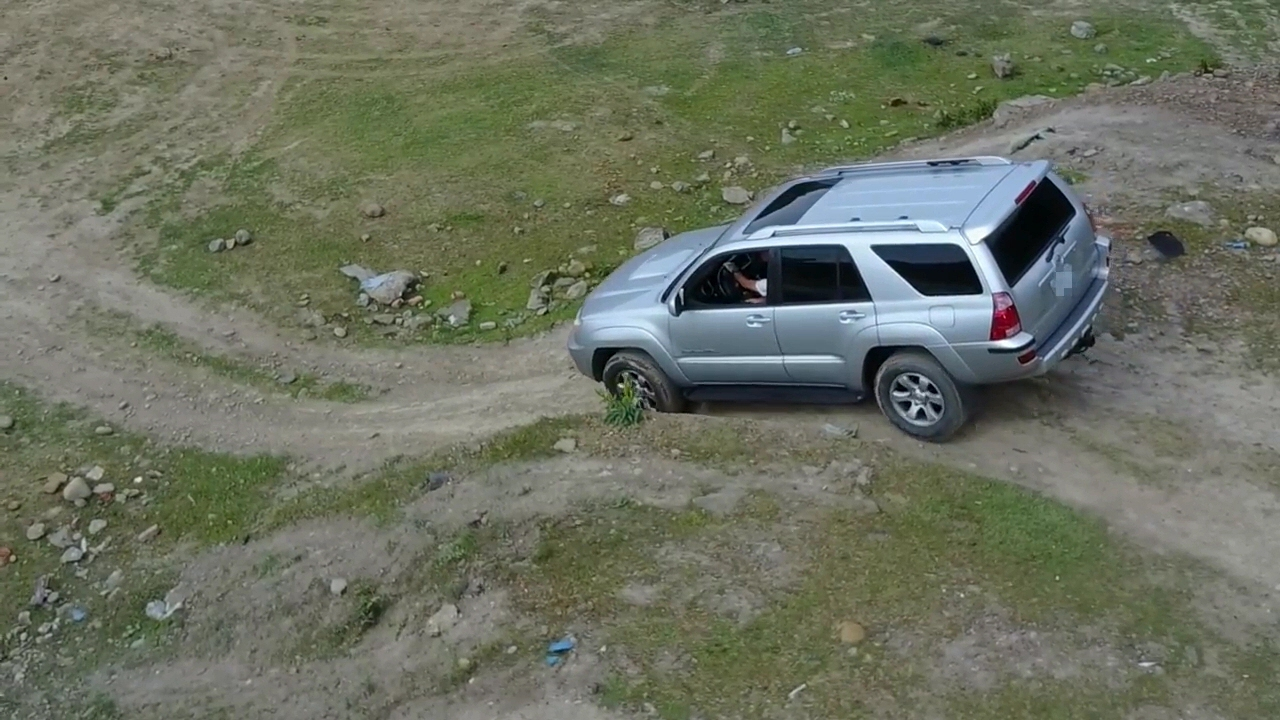araba: (570, 152, 1113, 436)
